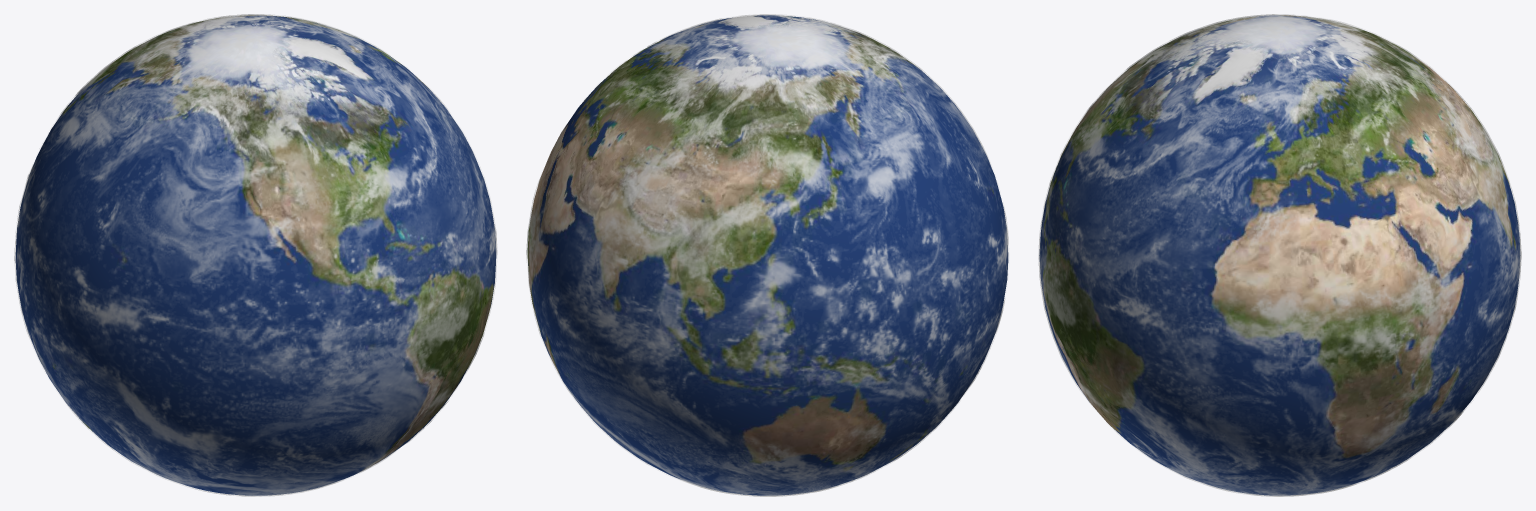
Rendered from earth-03d77923.glb.
3 views of the same model, side by side, from view 1: azimuth 30°, elevation 25°; view 2: azimuth 150°, elevation 25°; view 3: azimuth 270°, elevation 25° (orthographic).
Parts seen in each view (by area): view 1: Earth, Clouds; view 2: Earth, Clouds; view 3: Earth, Clouds.
Part boxes in pixels (x1,y1,x2,y2): Earth: (15,15,496,495); Clouds: (14,14,497,496); Earth: (527,15,1008,495); Clouds: (526,14,1008,496); Earth: (1039,15,1520,495); Clouds: (1038,14,1521,496).
Size of the model in its own units: 2.01 by 2.01 by 2.01.
2 materials, 2 textured.
